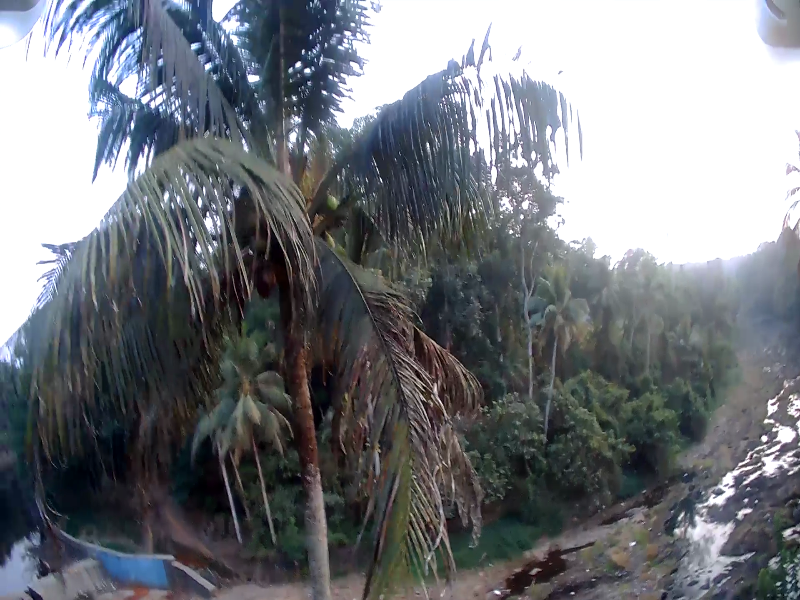coconut: (321, 194, 339, 214)
